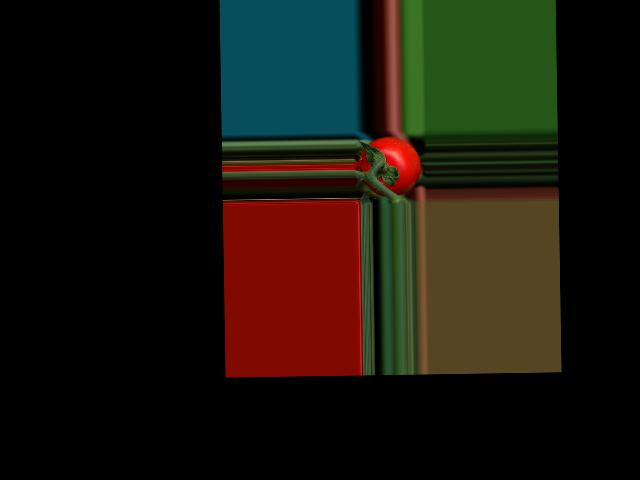tomato: (355, 136, 420, 197)
